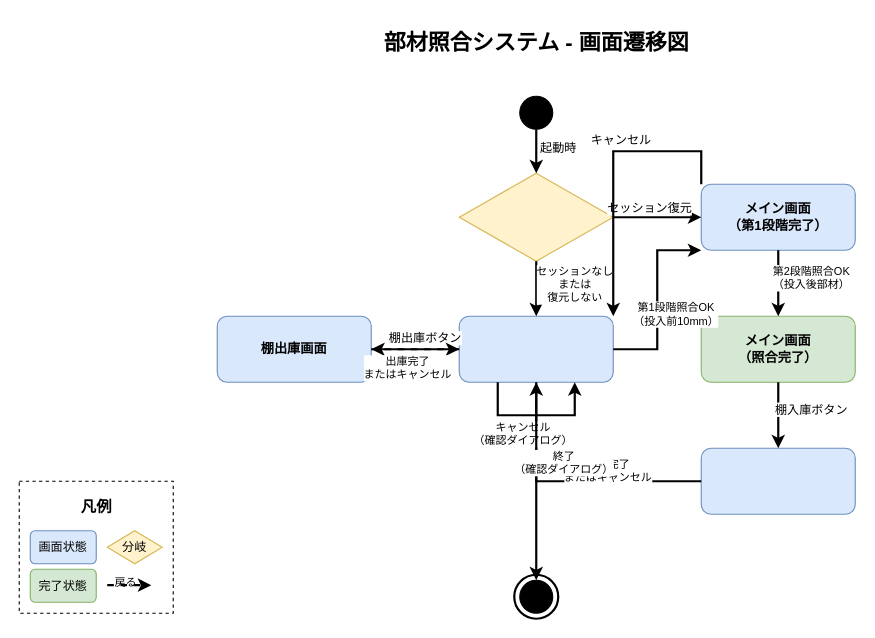
This 875x638 diagram has some shape labels left out. The centre of each missing label's shape, as x and y in pixels:
"セッション状態 確認" belongs at pixel 535 216.
"メイン画面 （初期状態）" belongs at pixel 535 348.
"棚入庫画面" belongs at pixel 777 480.
